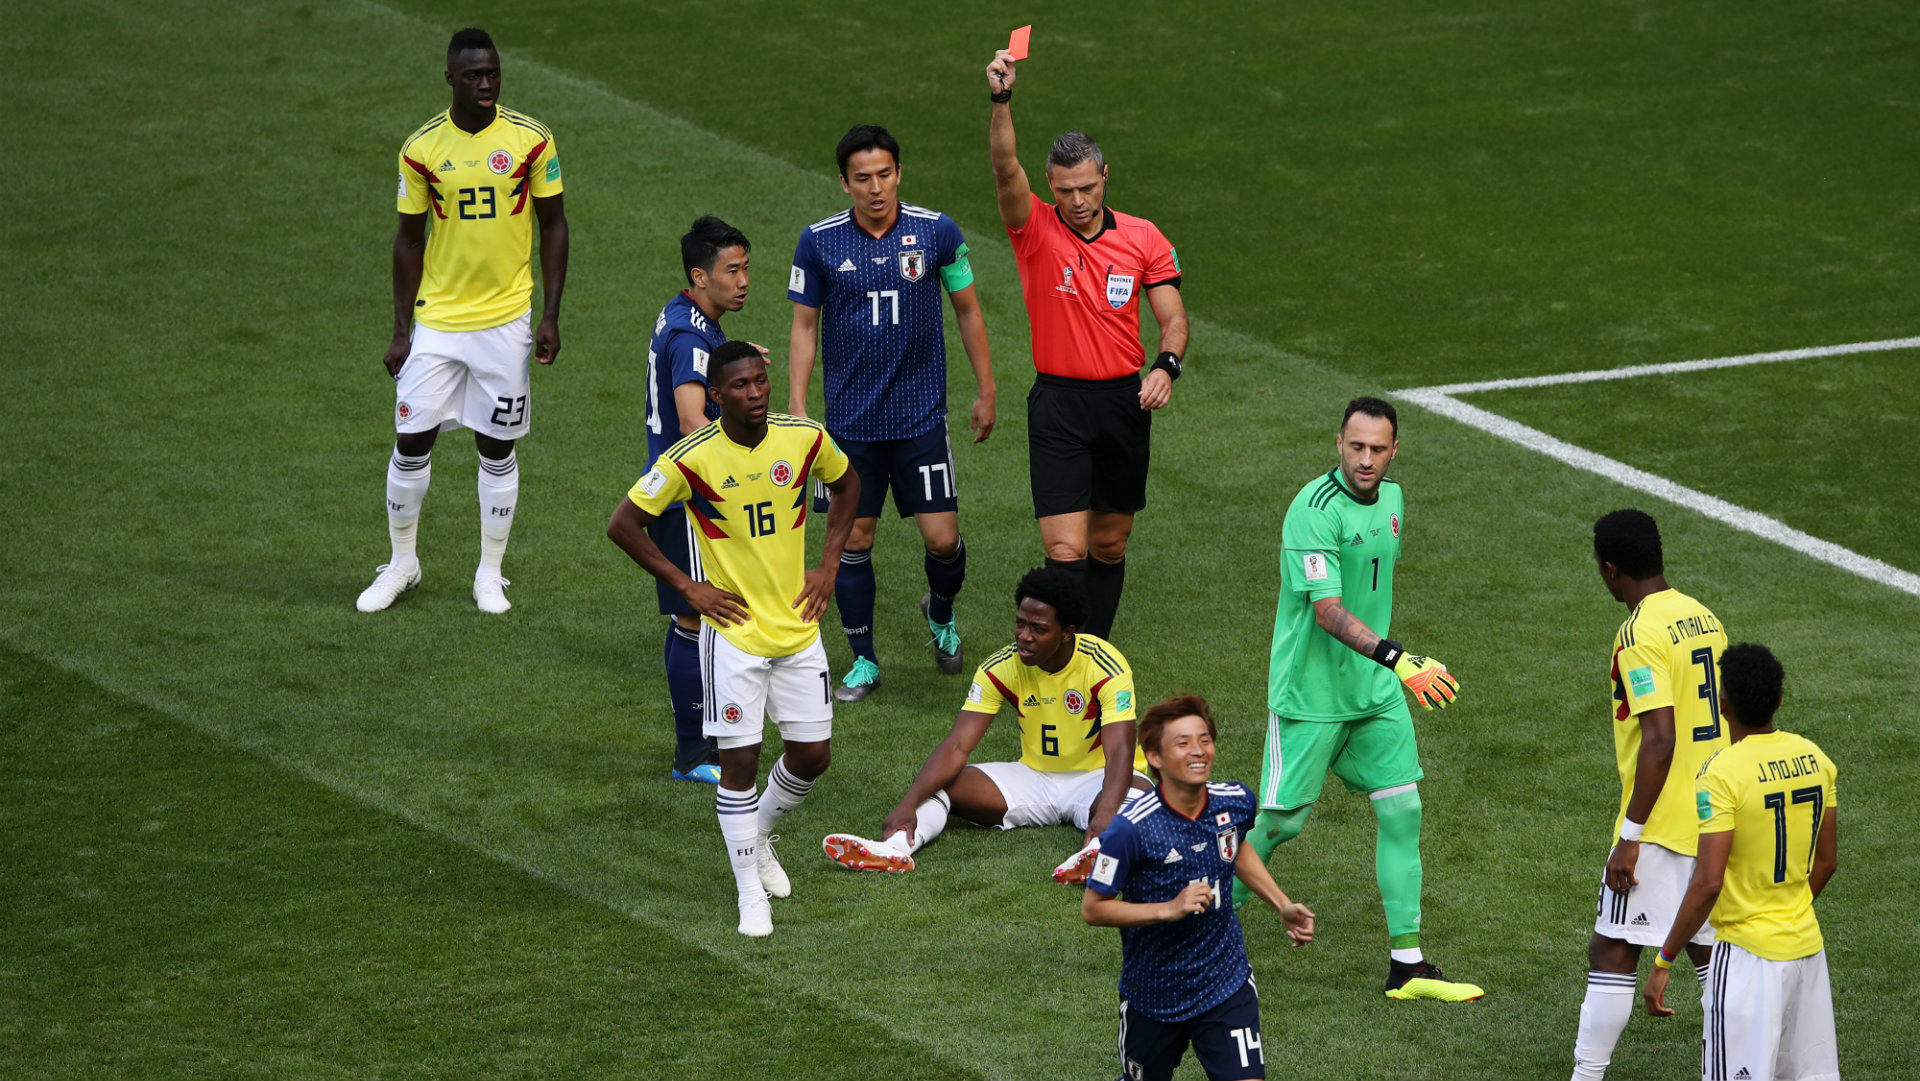red_card: (969, 25, 1044, 96)
